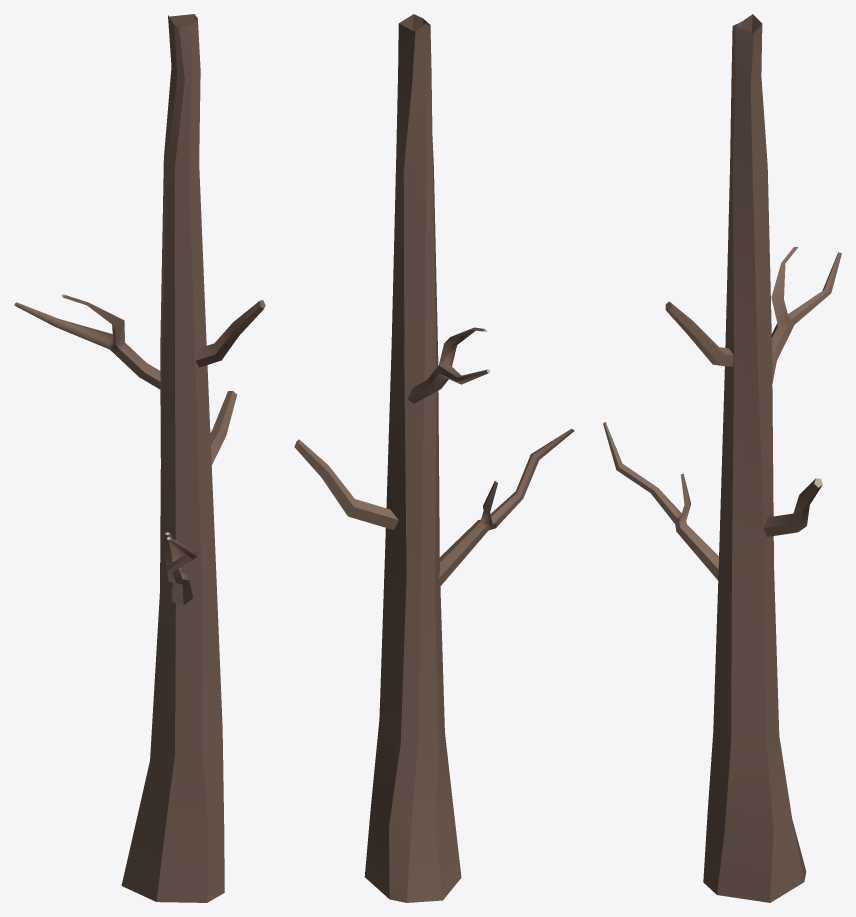
The model's file is tree02.fbx.
The picture shows the model from 3 angles, left to right: view 1: azimuth 30°, elevation 25°; view 2: azimuth 150°, elevation 25°; view 3: azimuth 270°, elevation 25°; orthographic projection.
Visible parts, largest first — view 1: polySurface9; view 2: polySurface9; view 3: polySurface9.
Boxes of the visible parts, x1=… form: polySurface9: x1=14, y1=14, x2=265, y2=902; polySurface9: x1=294, y1=14, x2=574, y2=902; polySurface9: x1=603, y1=14, x2=841, y2=902.
Bounding box in the file's own units: 31.54 × 126 × 31.52.
